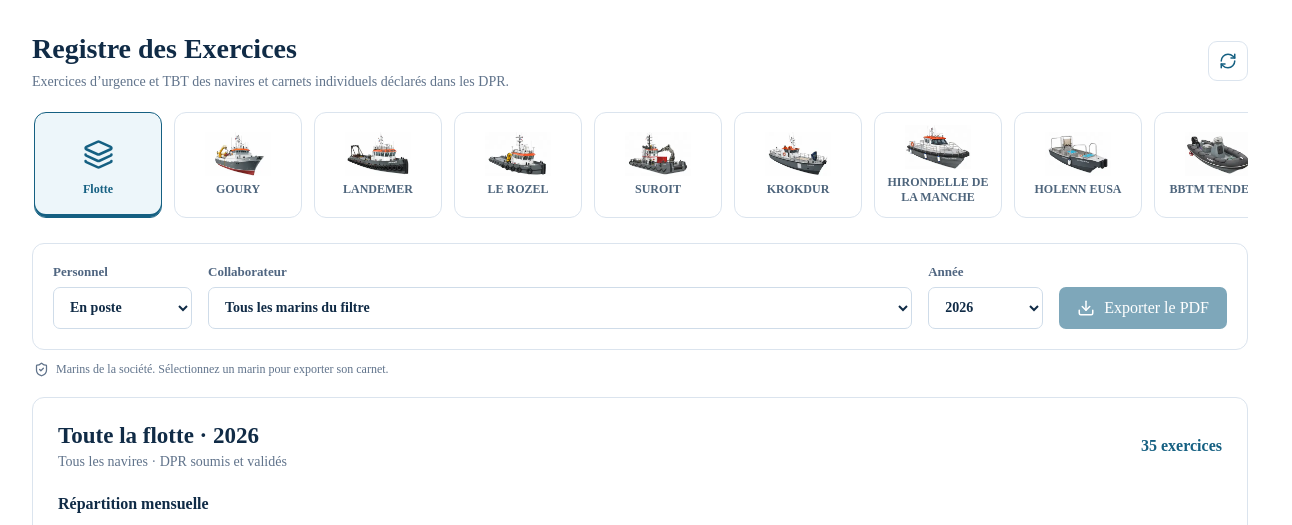
emergency register interface › starts with the fleet and active sailors, filters by vessel, and exports the selected sailor/year/scope
Expected: the heading "Toute la flotte · 2026" is shown, x1=58 y1=423 x2=287 y2=449
Expected: the dropdown named "Filtrer les marins" shows "En poste", x1=53 y1=287 x2=192 y2=329
Click the button "SUROIT" at point(658, 165), box x1=594 y1=112 x2=722 y2=218
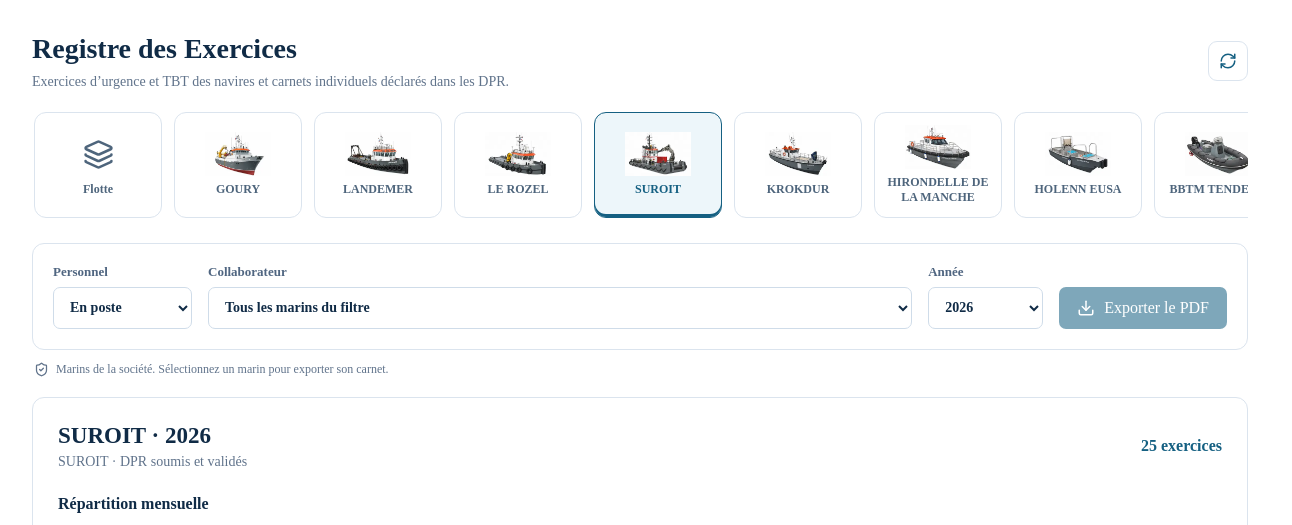
Expected: the heading "SUROIT · 2026" is shown, x1=58 y1=423 x2=211 y2=448
Select "Alex MARTIN" in the dropdown labelled "Collaborateur" at point(560, 308), box x1=208 y1=287 x2=912 y2=329
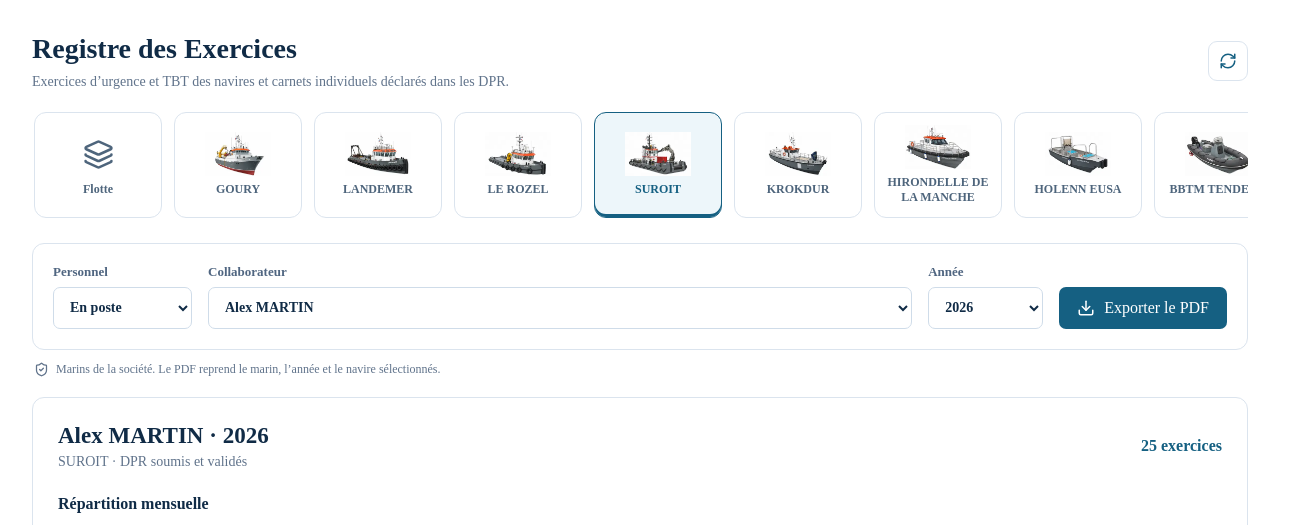
Expected: the heading "Alex MARTIN · 2026" is shown, x1=58 y1=423 x2=269 y2=449
Click the button "Exporter le PDF" at point(1143, 308), box x1=1059 y1=287 x2=1227 y2=329
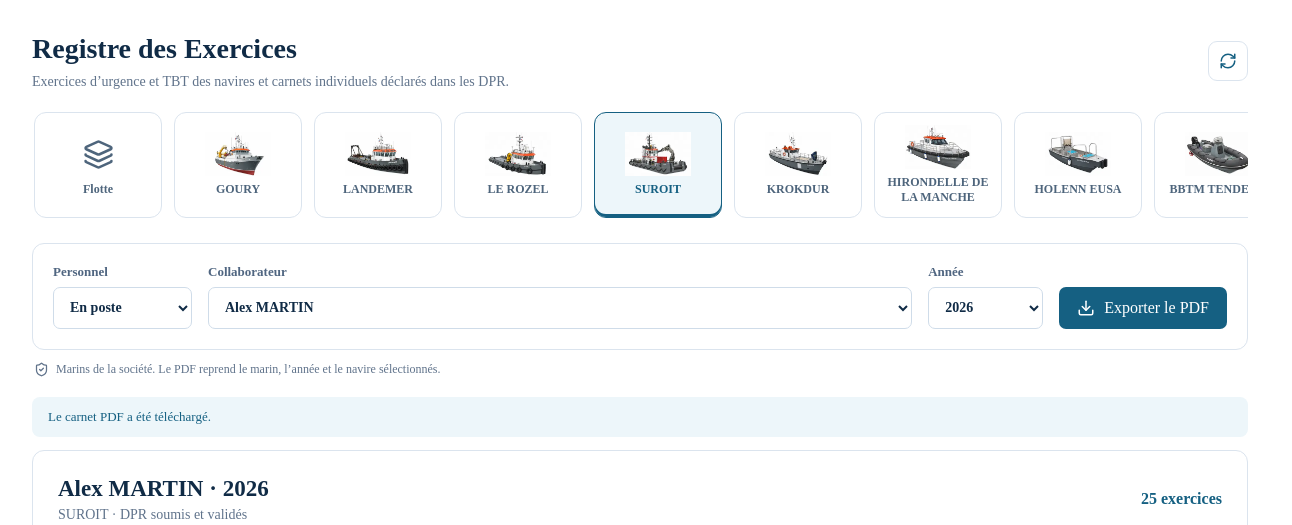
Expected: the text "Le carnet PDF a été téléchargé." is shown, x1=32 y1=397 x2=1248 y2=437
Select "Anciens marins" in the dropdown named "Filtrer les marins" at point(122, 308), box x1=53 y1=287 x2=192 y2=329
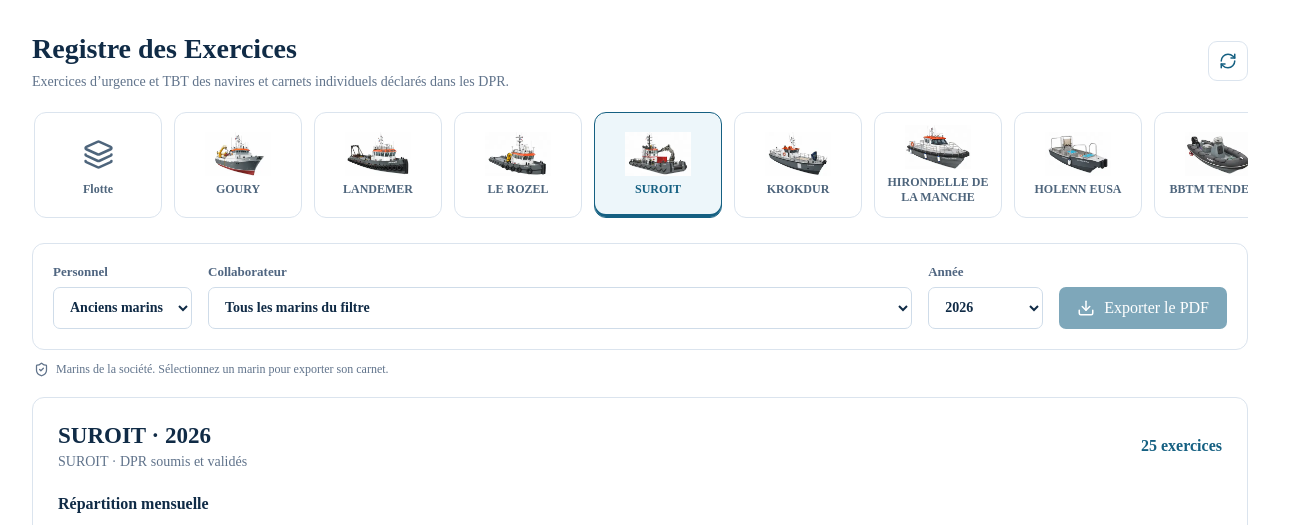
Expected: the heading "SUROIT · 2026" is shown, x1=58 y1=423 x2=211 y2=448
Expected: the heading "Alex MARTIN" is gone
